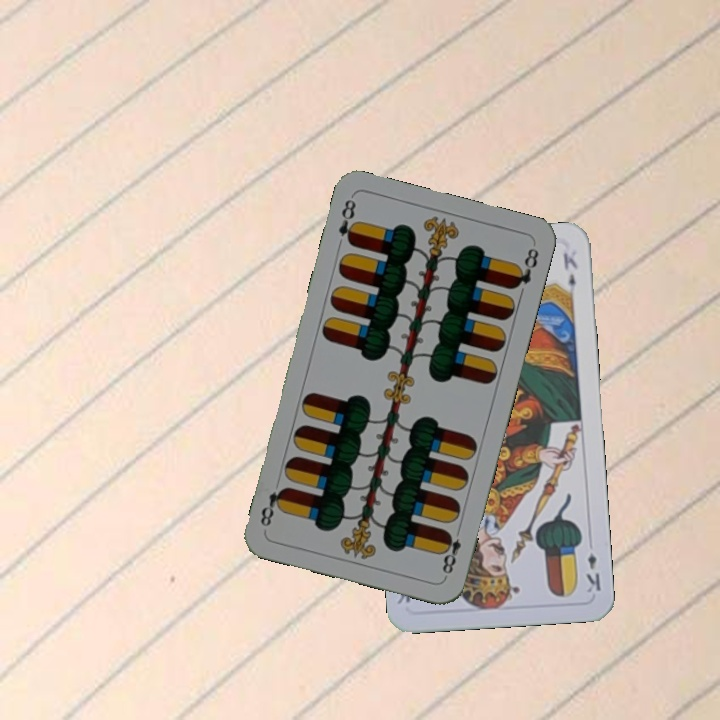E8: (333, 195, 361, 252), (437, 522, 464, 580)
EK: (582, 549, 603, 595)
